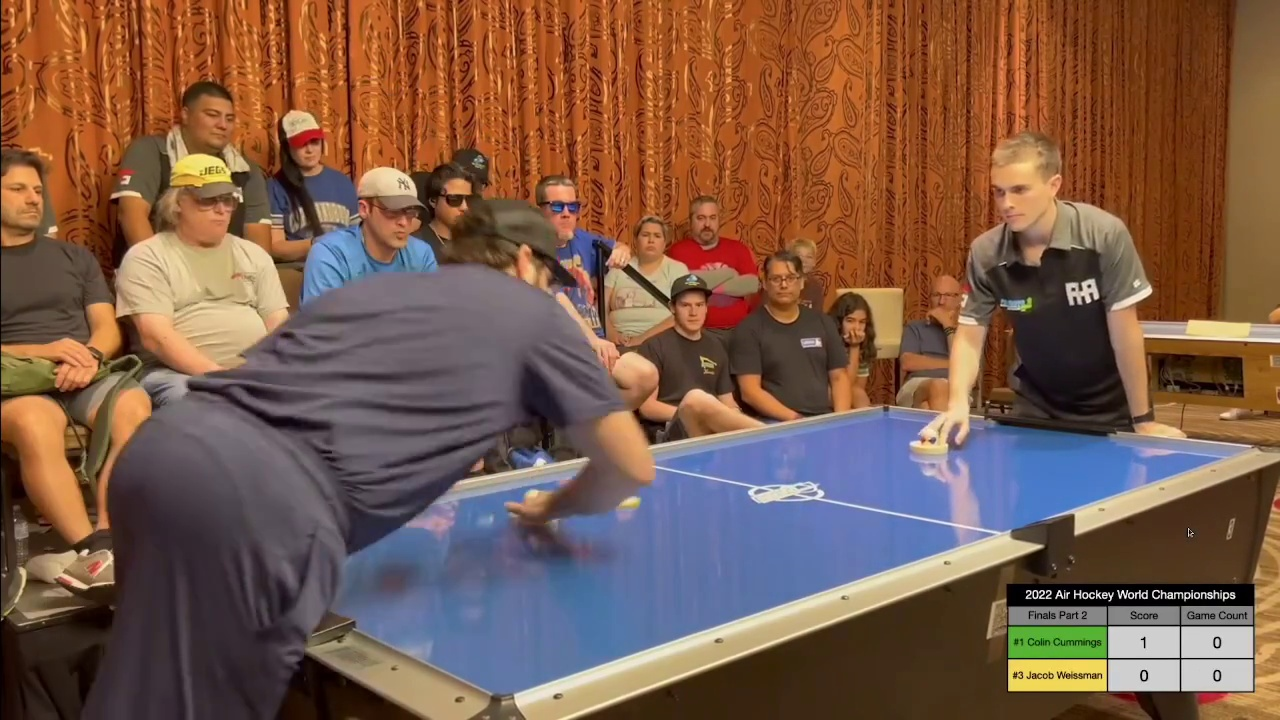player: (509, 485, 561, 529), (907, 427, 952, 455)
puck: (619, 494, 643, 510)
table: (233, 406, 1280, 653)
